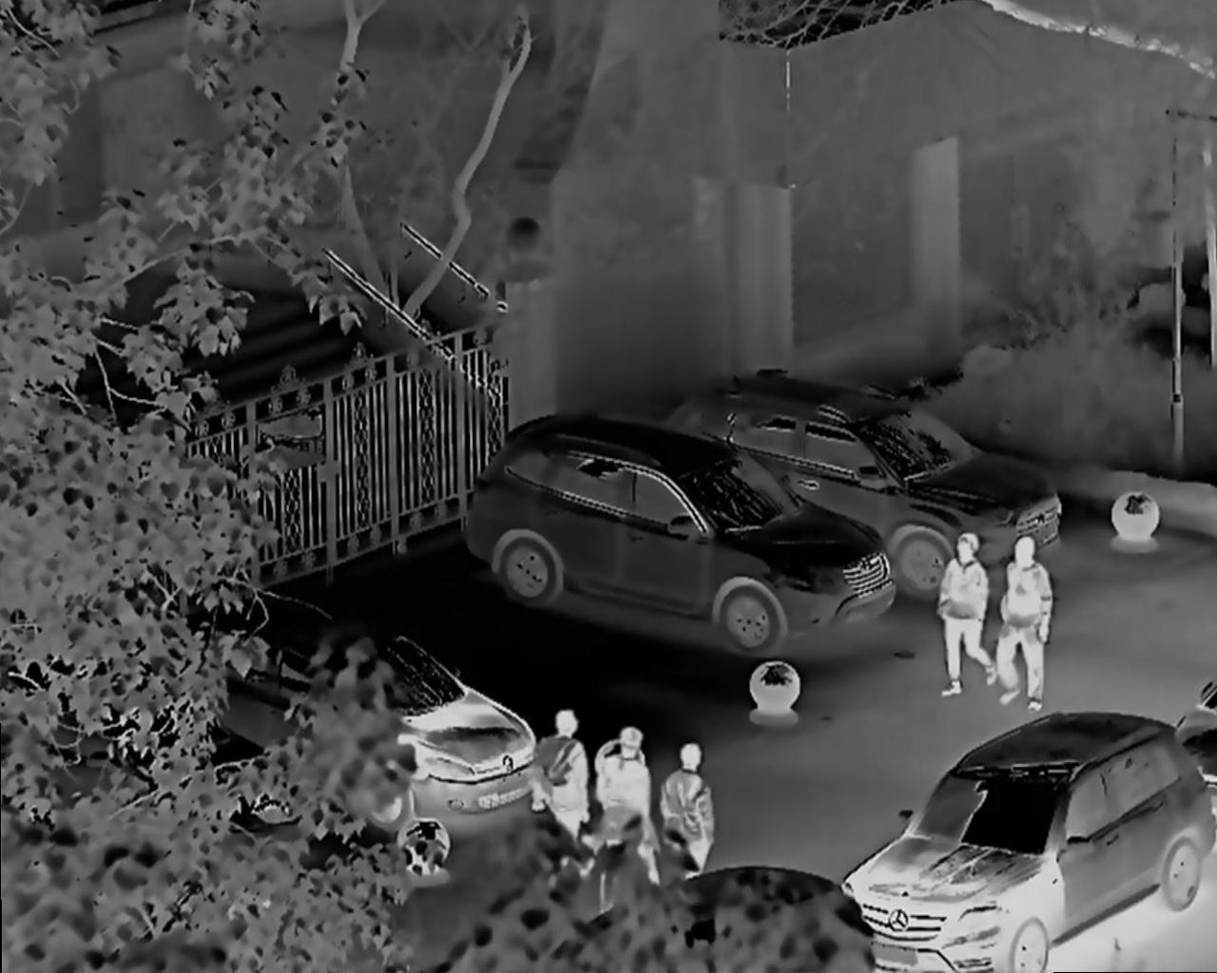person: (587, 724, 662, 883), (663, 732, 739, 868), (936, 531, 997, 694), (1007, 533, 1056, 706), (531, 705, 584, 844)
